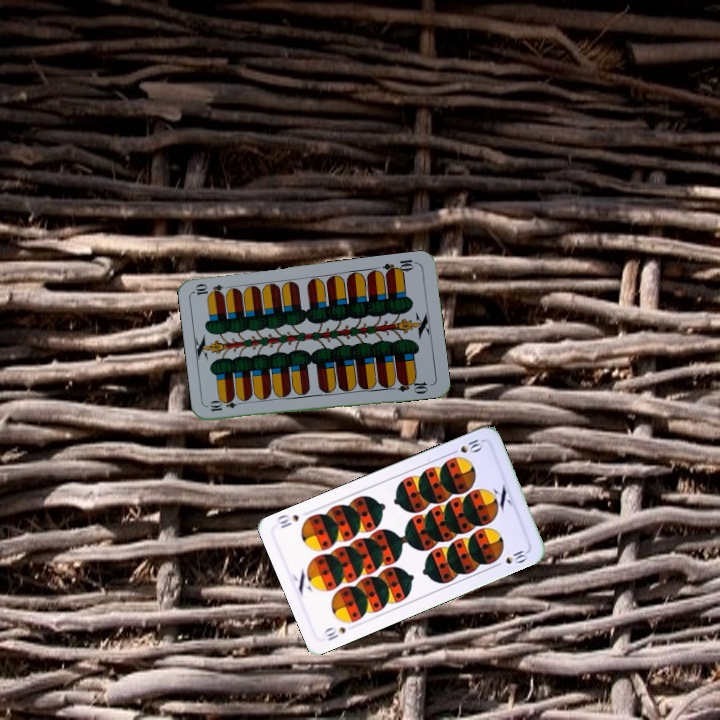E10: (379, 255, 420, 277), (206, 396, 246, 414)
S10: (446, 435, 485, 457), (320, 623, 348, 643)
